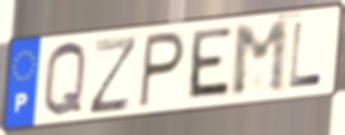E: (184, 25, 235, 102)
L: (287, 20, 324, 91)
M: (231, 17, 290, 101)
P: (136, 29, 188, 111)
Q: (41, 40, 89, 121)
Z: (87, 33, 141, 117)
